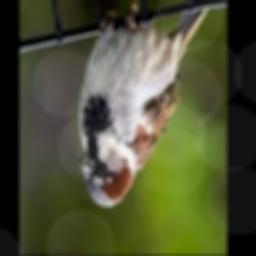Sparrow: (78, 0, 217, 206)
